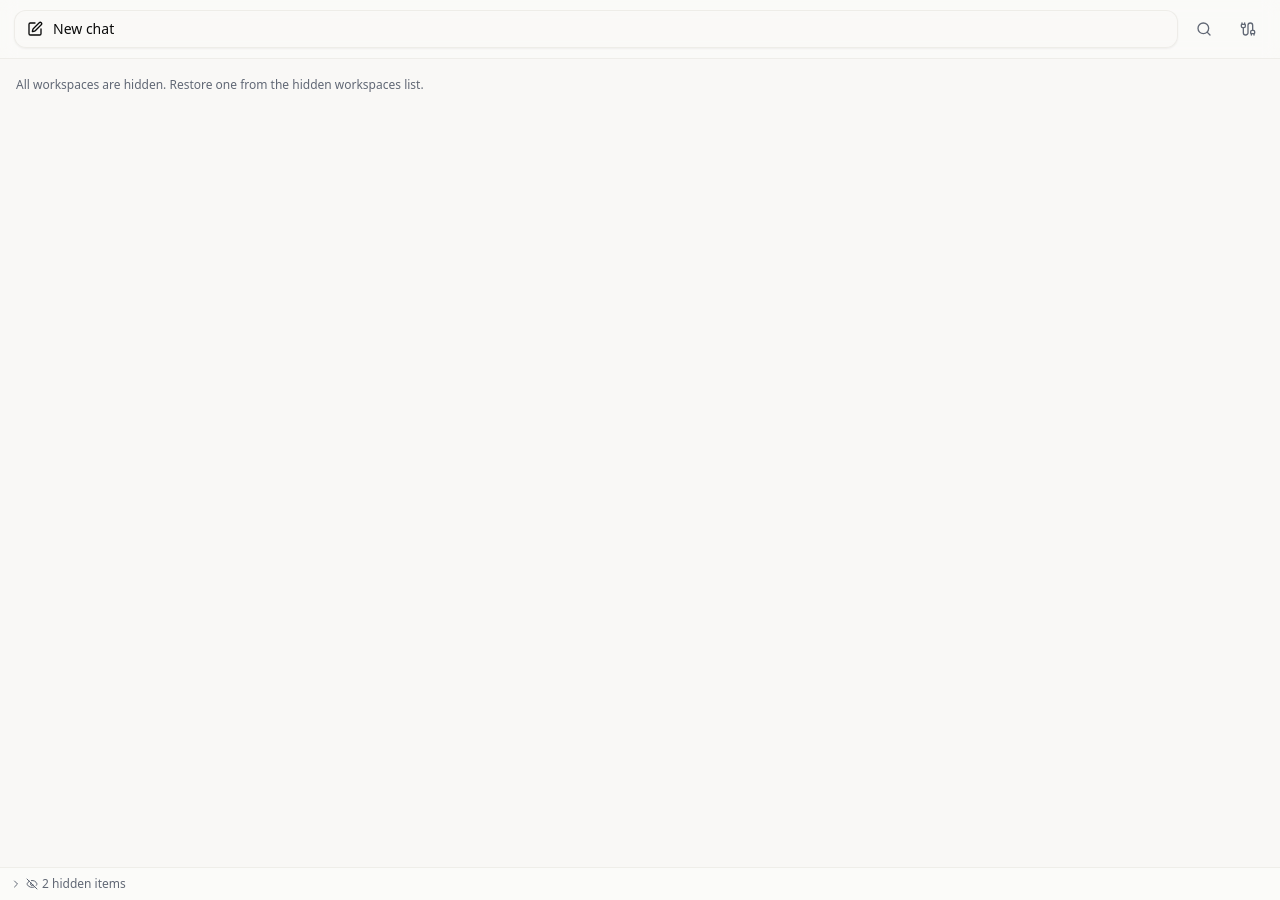
it: Explorer › groups hidden workspaces and sessions under the same disclosure
Expected: the number of elements with test id "hidden-items-bar" is 1, x1=0 y1=867 x2=1279 y2=899
Click the button with test id "hidden-items-toggle".
click(84, 884)  # box x1=6 y1=872 x2=1274 y2=896
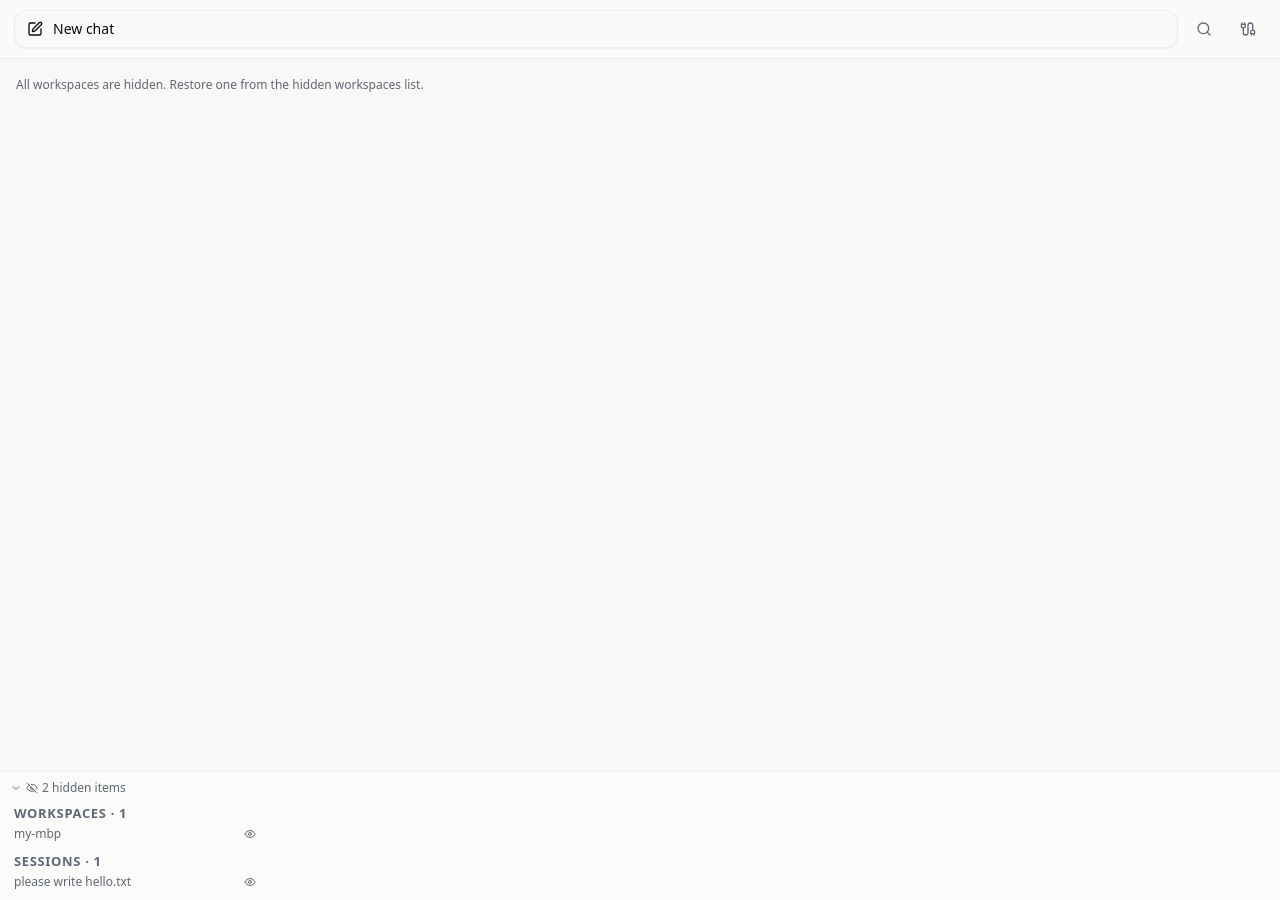
Now the element with test id "hidden-workspaces-group" is shown, box x1=14 y1=804 x2=258 y2=842
Now the element with test id "hidden-sessions-group" is shown, box x1=14 y1=852 x2=258 y2=890
